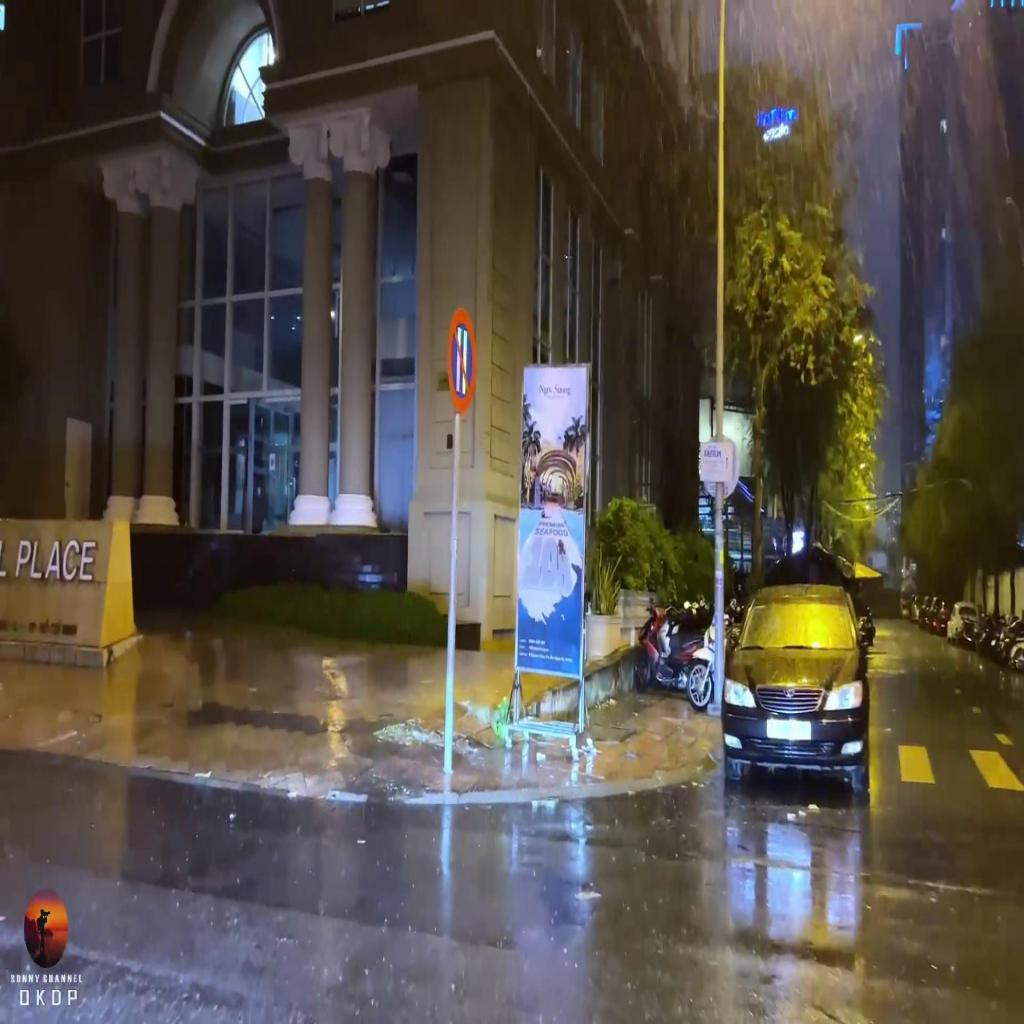cam_do_xe: (448, 308, 476, 412)
